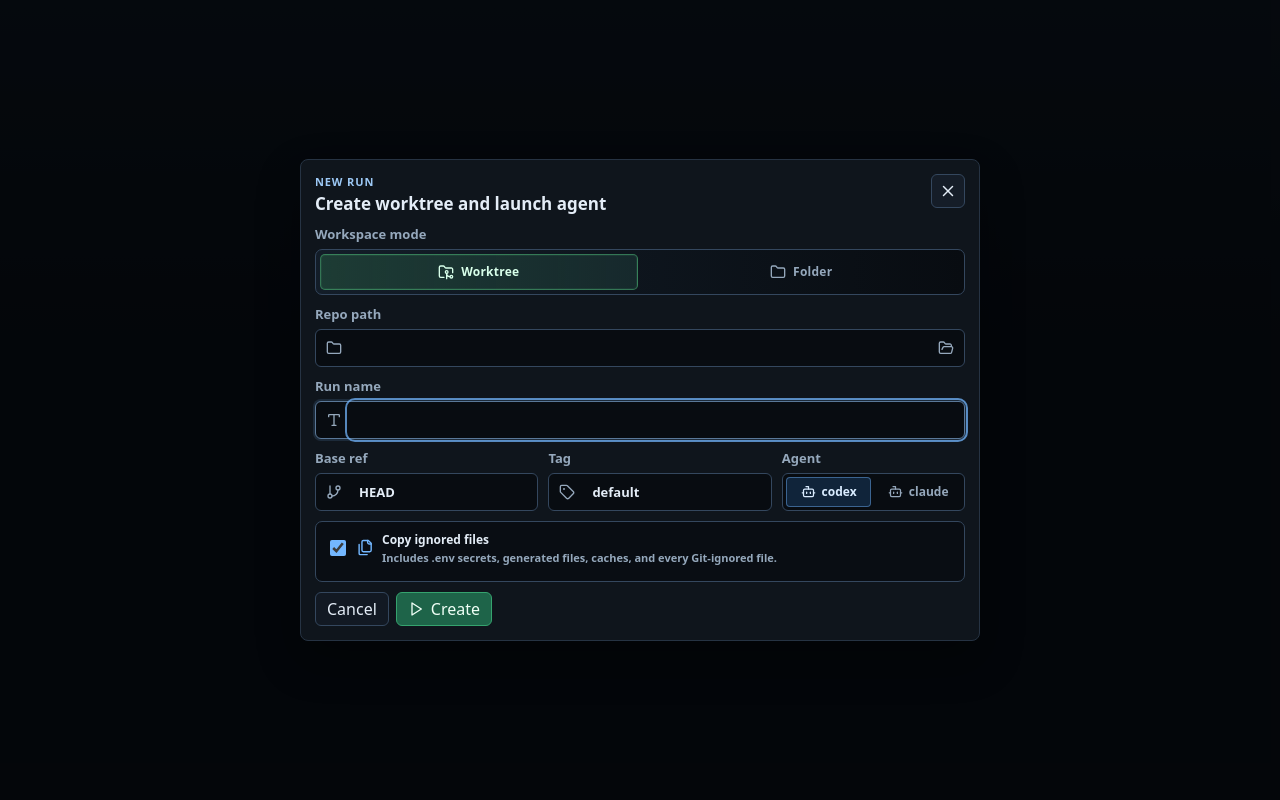
Test: CreateRunModal › shows repo path suggestions and applies a clicked folder
The width and height of the screenshot is (1280, 800).
In the dropdown labelled "Repo path": (636, 348) [349,330,924,366], type "/repo"
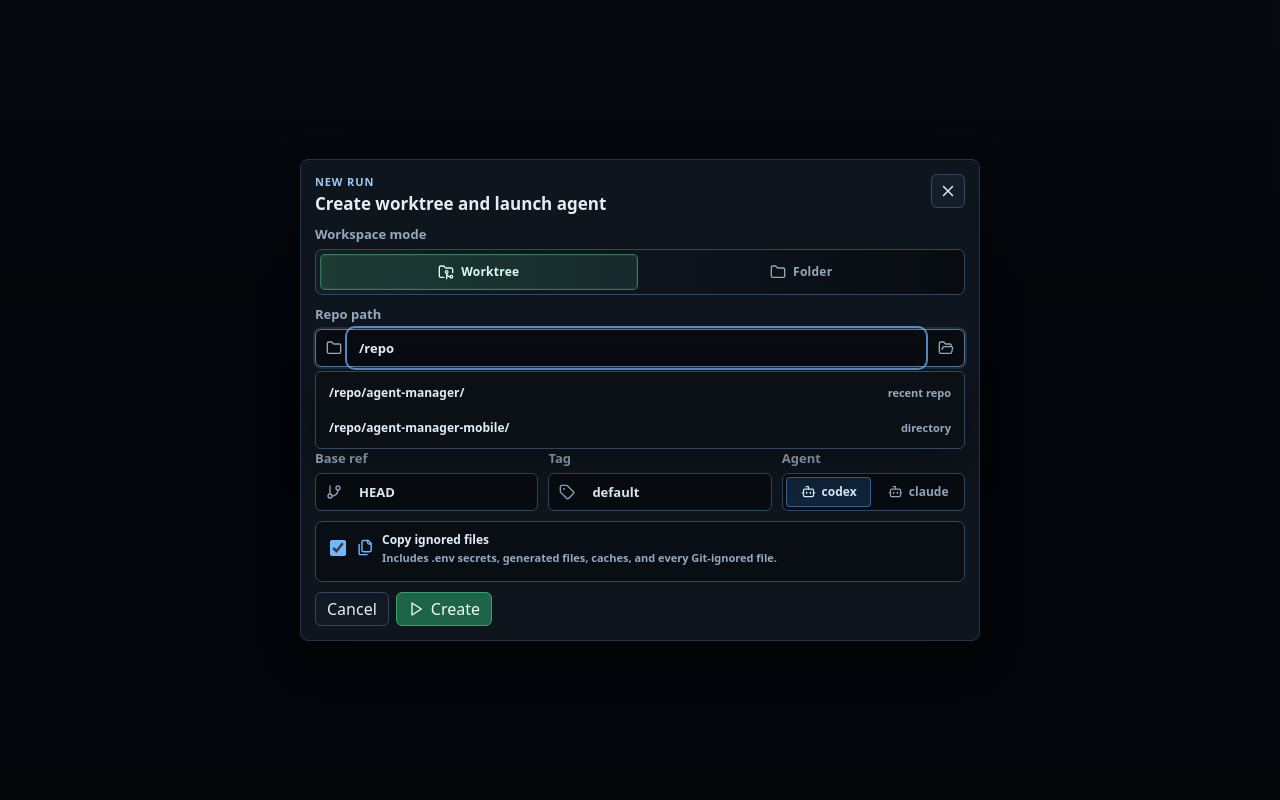
Click the option "/repo/agent-manager/ recent repo": (397, 392) [320,376,960,409]
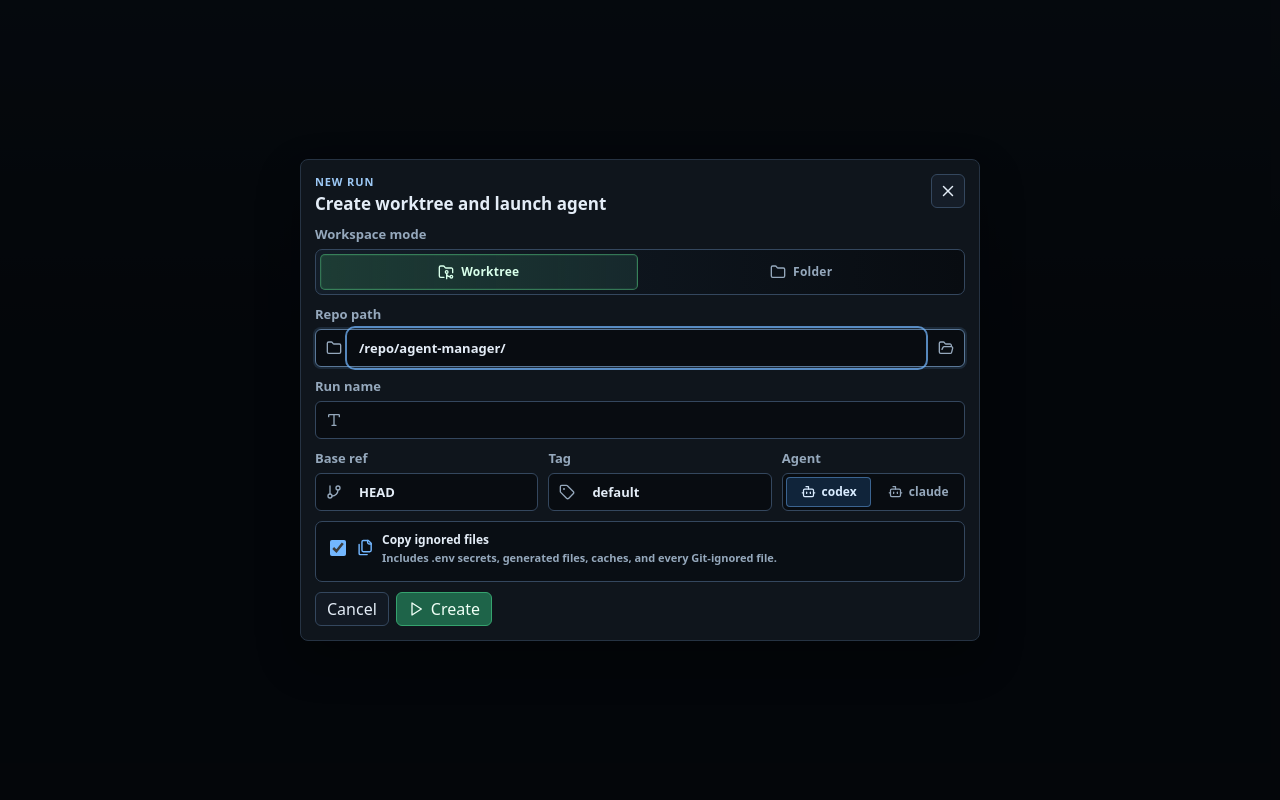
Expected: the dropdown labelled "Repo path" holds "/repo/agent-manager/", [349,330,924,366]
